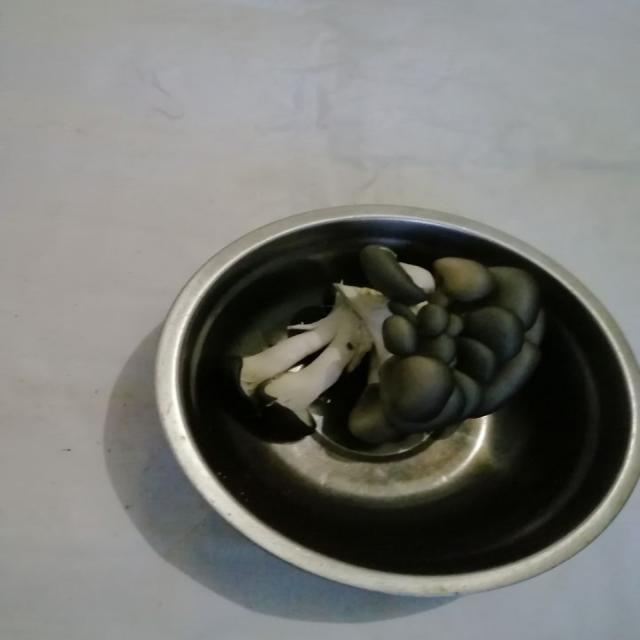Pleurotus ostreatus: (216, 242, 556, 461)
